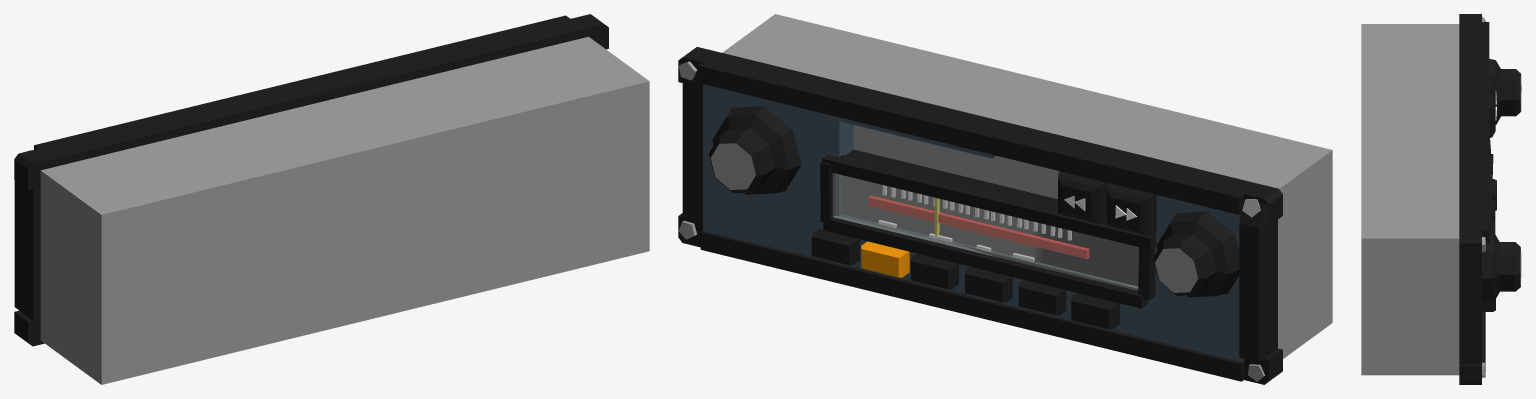
Rendered from CarRadio.glb.
3 renders of one model, left to right at view 1: azimuth 30°, elevation 25°; view 2: azimuth 150°, elevation 25°; view 3: azimuth 270°, elevation 25°, orthographic. The views are drawn at different scales.
Visible parts, largest first — view 1: group704953311; view 2: group704953311; view 3: group704953311.
Part boxes in pixels (x1=…): group704953311: x1=14, y1=14, x2=649, y2=384; group704953311: x1=678, y1=14, x2=1332, y2=384; group704953311: x1=1361, y1=14, x2=1521, y2=384.
Bounding box in the file's own units: 1.43 × 0.43 × 0.4252.
